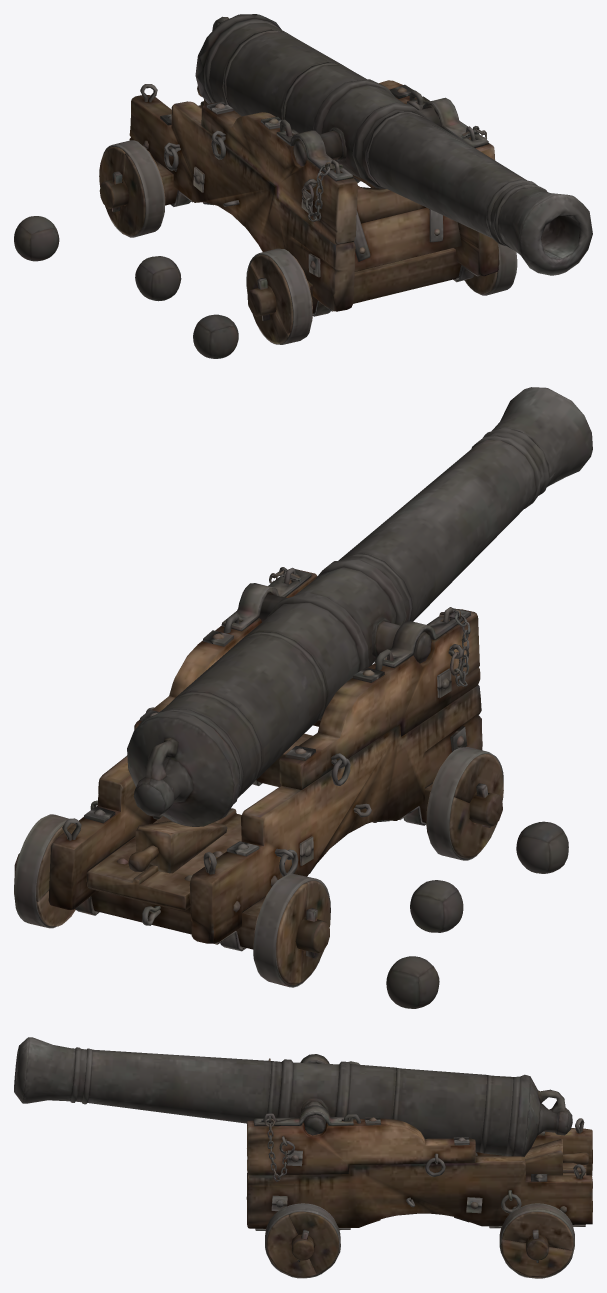
Rendered from cannon_01.glb.
The picture shows the model from 3 angles, top to bottom: view 1: azimuth 30°, elevation 25°; view 2: azimuth 150°, elevation 25°; view 3: azimuth 270°, elevation 25°; orthographic projection. The views are drawn at different scales.
Parts seen in each view (by area): view 1: cannon_01_frame, cannon_01_barrel, cannon_01_wheel_01, cannon_01_wheel_02, cannon_01_ball_02, cannon_01_ball_03, cannon_01_ball_01, cannon_01_wheel_03; view 2: cannon_01_frame, cannon_01_barrel, cannon_01_wheel_01, cannon_01_wheel_02, cannon_01_wheel_04, cannon_01_pusherblock, cannon_01_ball_02, cannon_01_ball_03, cannon_01_ball_01; view 3: cannon_01_barrel, cannon_01_frame, cannon_01_wheel_04, cannon_01_wheel_03, cannon_01_pusherblock.
Part boxes in pixels (bbox=[...]): cannon_01_frame: bbox=[99, 80, 499, 321]; cannon_01_barrel: bbox=[195, 14, 592, 275]; cannon_01_wheel_01: bbox=[246, 248, 312, 344]; cannon_01_wheel_02: bbox=[99, 140, 165, 237]; cannon_01_ball_02: bbox=[135, 256, 181, 301]; cannon_01_ball_03: bbox=[14, 216, 59, 261]; cannon_01_ball_01: bbox=[193, 314, 238, 358]; cannon_01_wheel_03: bbox=[464, 243, 517, 295]; cannon_01_frame: bbox=[14, 567, 502, 957]; cannon_01_barrel: bbox=[127, 387, 592, 826]; cannon_01_wheel_01: bbox=[426, 747, 503, 860]; cannon_01_wheel_02: bbox=[253, 873, 330, 987]; cannon_01_wheel_04: bbox=[14, 814, 75, 928]; cannon_01_pusherblock: bbox=[128, 821, 227, 873]; cannon_01_ball_02: bbox=[410, 880, 463, 932]; cannon_01_ball_03: bbox=[386, 956, 439, 1008]; cannon_01_ball_01: bbox=[516, 821, 568, 873]; cannon_01_barrel: bbox=[14, 1037, 572, 1156]; cannon_01_frame: bbox=[246, 1054, 592, 1262]; cannon_01_wheel_04: bbox=[499, 1203, 574, 1278]; cannon_01_wheel_03: bbox=[265, 1203, 340, 1278]; cannon_01_pusherblock: bbox=[501, 1139, 588, 1175].
Size of the model in its own units: 1.28 by 0.8588 by 2.3.
Materials: 1 (1 with a texture image).
